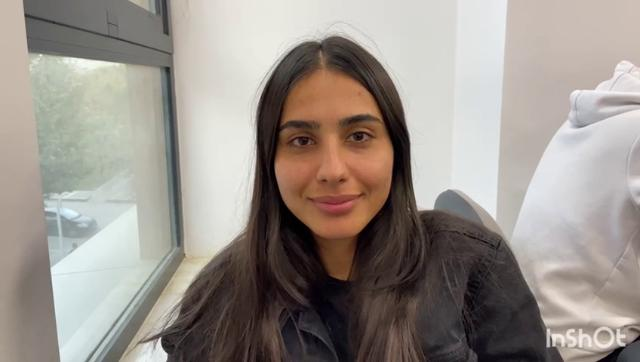senang: (269, 72, 397, 237)
